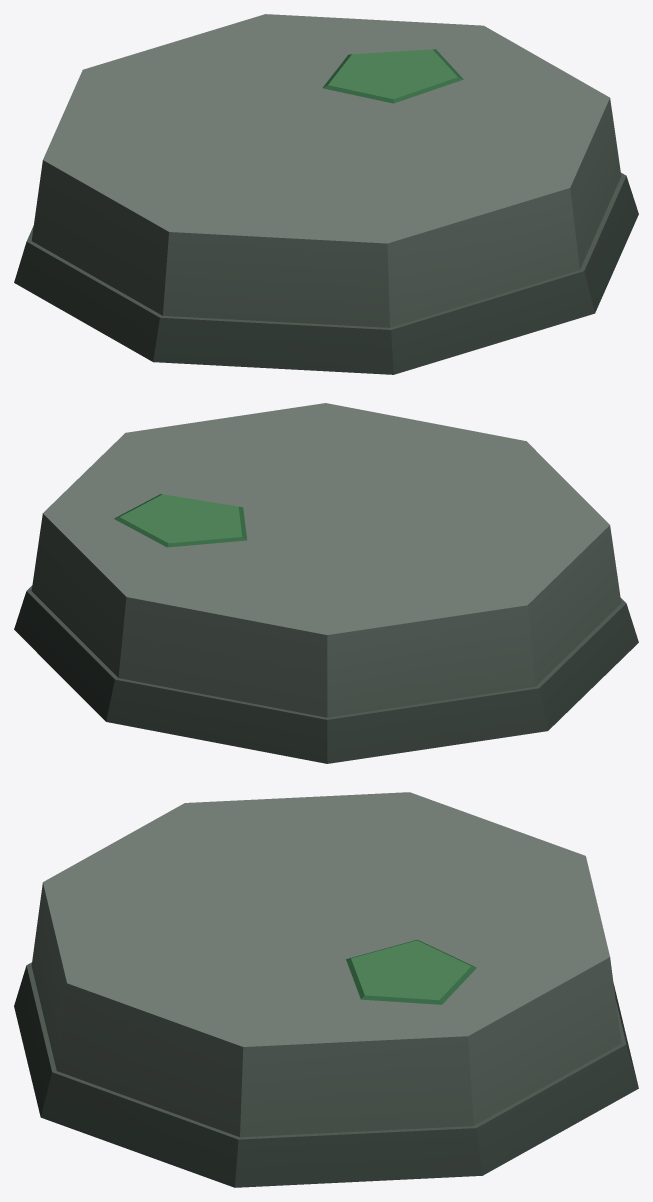
The model's file is custom-pedra-rio-2.glb.
3 views of the same model, one above another, from view 1: azimuth 30°, elevation 25°; view 2: azimuth 150°, elevation 25°; view 3: azimuth 270°, elevation 25° (orthographic). The views are drawn at different scales.
Parts seen in each view (by area): view 1: pedra-rio-2; view 2: pedra-rio-2; view 3: pedra-rio-2.
Boxes of the visible parts, bbox=[...] form: pedra-rio-2: bbox=[14, 14, 638, 374]; pedra-rio-2: bbox=[14, 403, 638, 763]; pedra-rio-2: bbox=[14, 792, 638, 1187].
Size of the model in its own units: 2.83 by 0.61 by 2.66.
